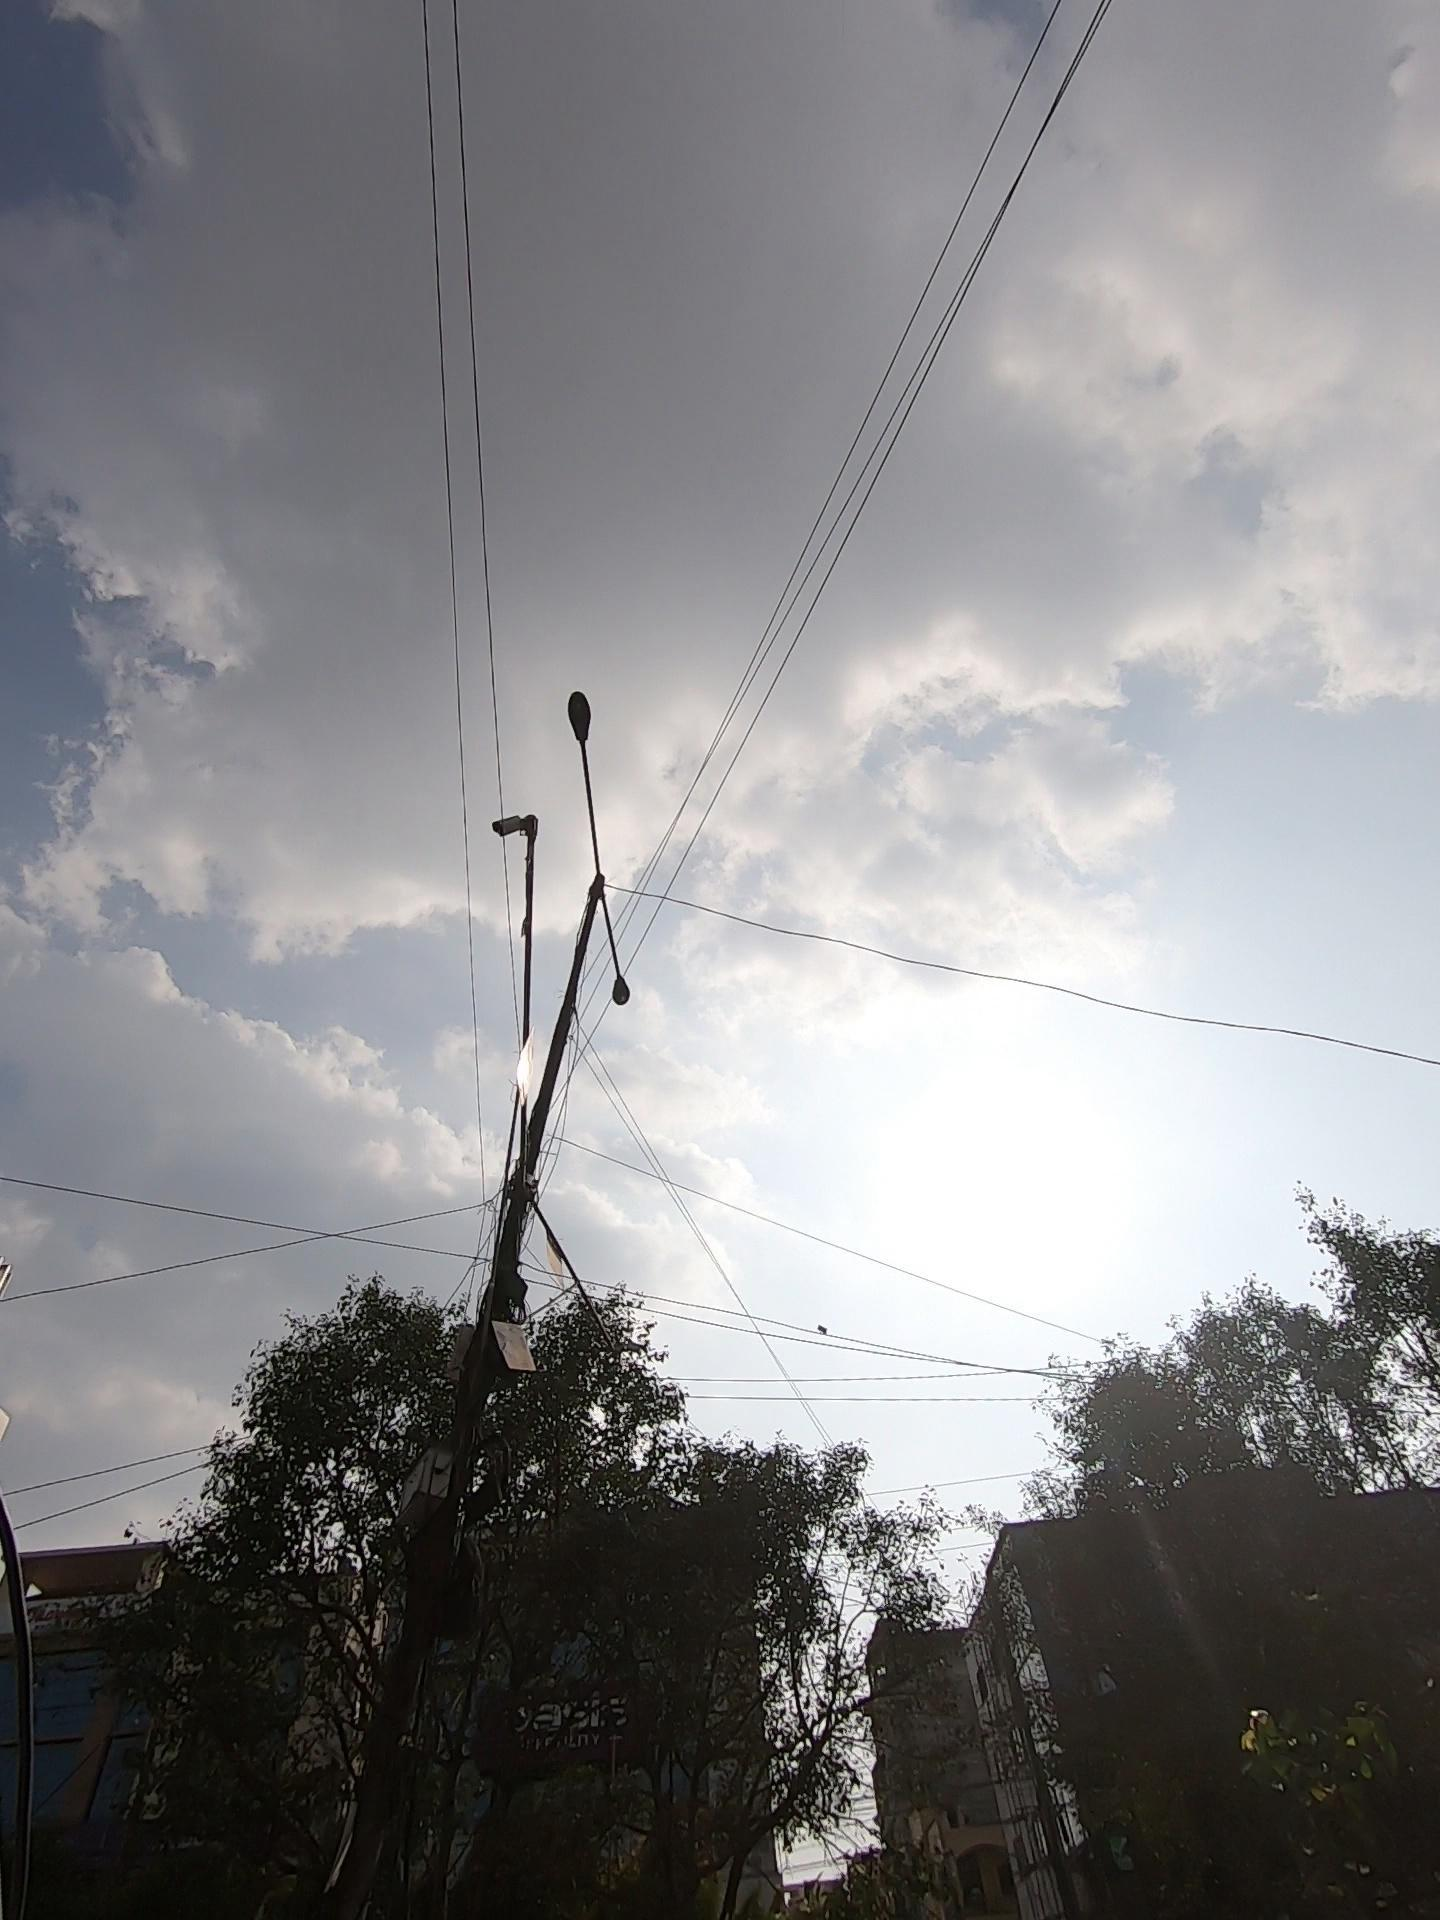off: (414, 621, 740, 1164)
